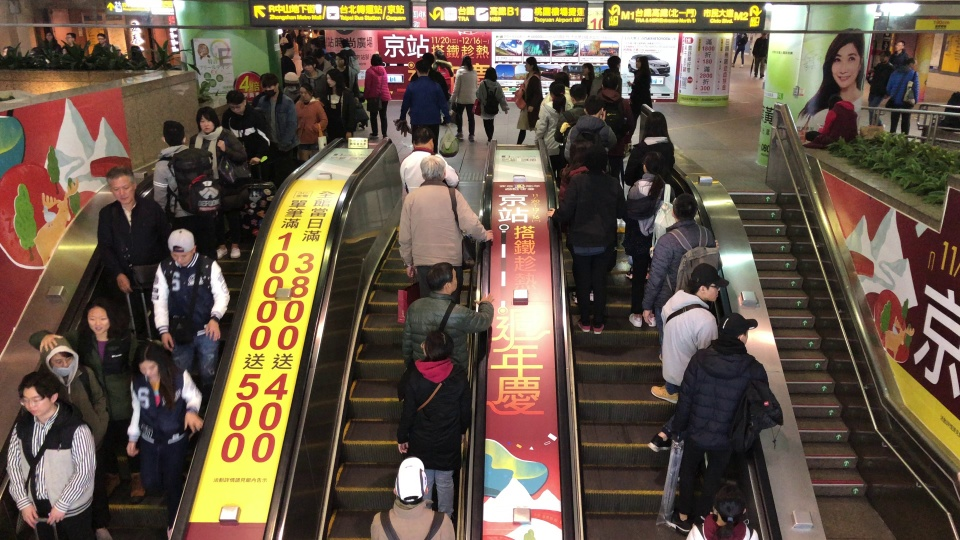person_head: (17, 371, 59, 417), (687, 262, 730, 302), (391, 456, 430, 496), (711, 483, 747, 525), (40, 336, 74, 377), (719, 311, 757, 345), (105, 166, 137, 205), (419, 328, 454, 361), (134, 341, 165, 378), (166, 227, 196, 265), (425, 261, 458, 295), (84, 300, 112, 334), (671, 193, 698, 221), (643, 110, 669, 138), (420, 155, 446, 181), (568, 138, 592, 166), (195, 106, 219, 134), (161, 120, 186, 146), (584, 144, 608, 171), (411, 125, 434, 151), (641, 151, 667, 174), (225, 89, 246, 113), (583, 95, 603, 118), (262, 72, 279, 96), (569, 83, 587, 105), (548, 80, 566, 101), (325, 67, 342, 87), (283, 71, 299, 91), (414, 59, 430, 76), (554, 71, 570, 88), (299, 82, 313, 101), (302, 55, 316, 73), (827, 94, 842, 110), (311, 48, 325, 65), (524, 56, 538, 72), (483, 67, 497, 81), (420, 52, 434, 66), (283, 42, 295, 58), (634, 55, 648, 68), (607, 55, 621, 68), (334, 52, 346, 67), (581, 62, 593, 76), (906, 56, 918, 70), (370, 53, 382, 66), (64, 32, 77, 44), (879, 50, 891, 62), (460, 55, 471, 66), (894, 40, 905, 51), (97, 32, 106, 44), (434, 49, 444, 59), (340, 38, 349, 47), (113, 45, 121, 55), (45, 32, 53, 42), (760, 33, 768, 38)
person_vbox: (655, 311, 784, 537), (28, 300, 146, 504), (641, 193, 723, 404), (644, 261, 730, 454), (36, 334, 114, 540), (4, 371, 98, 540), (125, 341, 204, 540), (546, 143, 625, 334), (150, 228, 231, 413), (397, 154, 494, 305), (96, 165, 172, 339), (396, 328, 473, 493), (400, 261, 495, 376), (619, 150, 676, 328), (188, 106, 252, 260), (152, 120, 218, 261), (368, 455, 456, 540), (254, 72, 301, 190), (393, 59, 451, 154), (221, 89, 270, 179), (563, 95, 617, 176), (685, 483, 759, 540), (399, 125, 459, 195), (534, 80, 573, 186), (623, 111, 676, 186), (553, 84, 589, 187), (802, 94, 858, 150), (884, 56, 919, 140), (625, 55, 653, 156), (475, 67, 510, 145), (294, 82, 328, 161), (321, 68, 357, 141), (448, 54, 478, 141), (514, 56, 543, 144), (363, 53, 392, 139), (557, 138, 592, 205), (866, 49, 896, 126), (409, 52, 449, 101), (298, 55, 327, 104), (334, 52, 361, 103), (538, 71, 573, 107), (339, 38, 360, 98), (433, 49, 454, 98), (601, 55, 623, 97), (752, 33, 769, 78), (310, 47, 334, 74), (888, 39, 909, 68), (282, 71, 301, 103), (731, 33, 748, 67), (281, 42, 297, 78), (90, 32, 112, 57), (579, 61, 595, 94), (60, 31, 81, 54), (41, 31, 62, 50)
